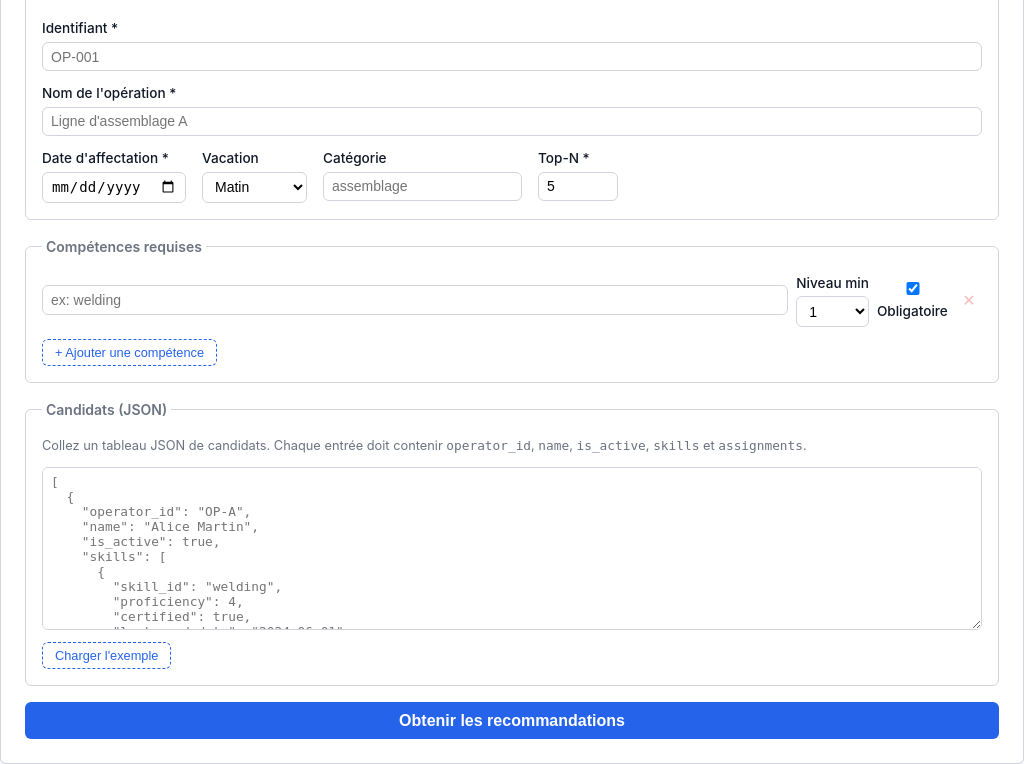
Test case: RecommendationForm — validation › shows error when operation_id is empty
This screenshot has width=1024, height=764.
(page scrolled)
Step 1. Click the button "Obtenir les recommandations" → (512, 721), box [25, 702, 999, 739]
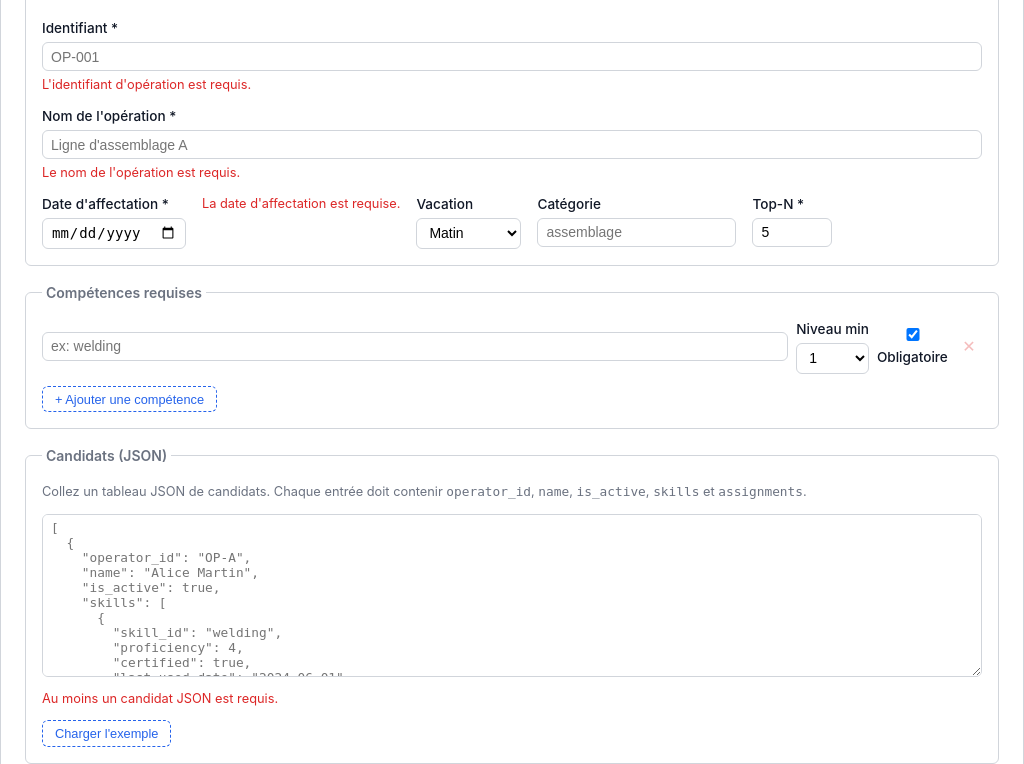
Expected: the text "L'identifiant d'opération est requis." is shown, [42, 77, 251, 92]
